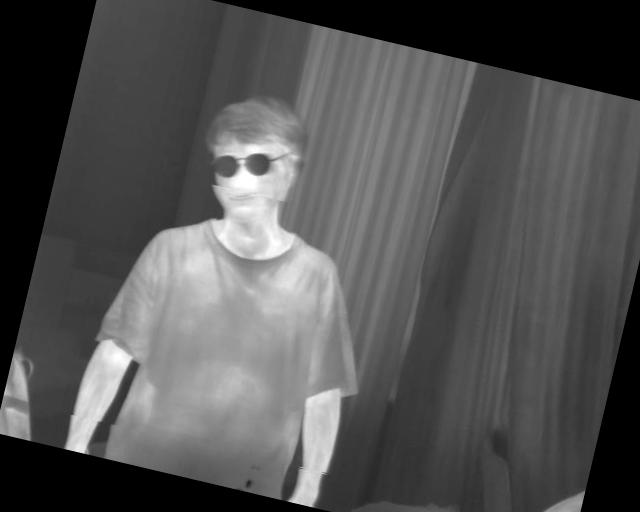face: (187, 83, 315, 234)
